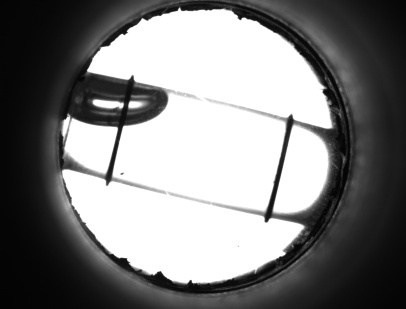line: (263, 134, 292, 205), (104, 135, 124, 168)
